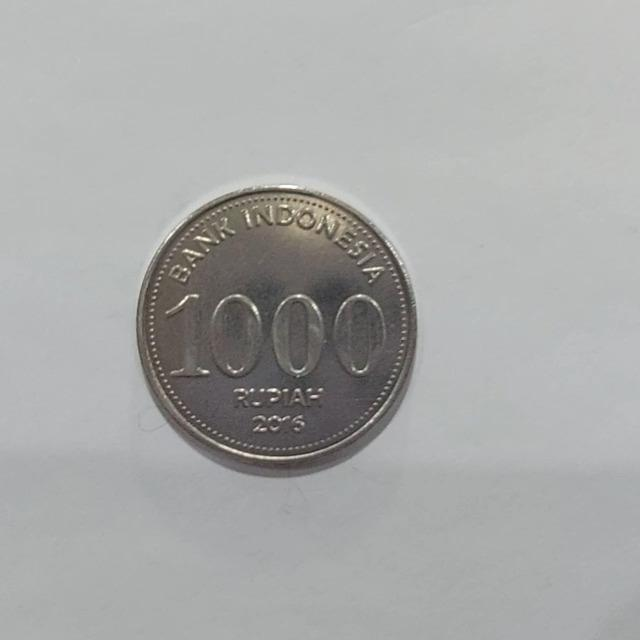Rp100: (134, 181, 419, 476)
